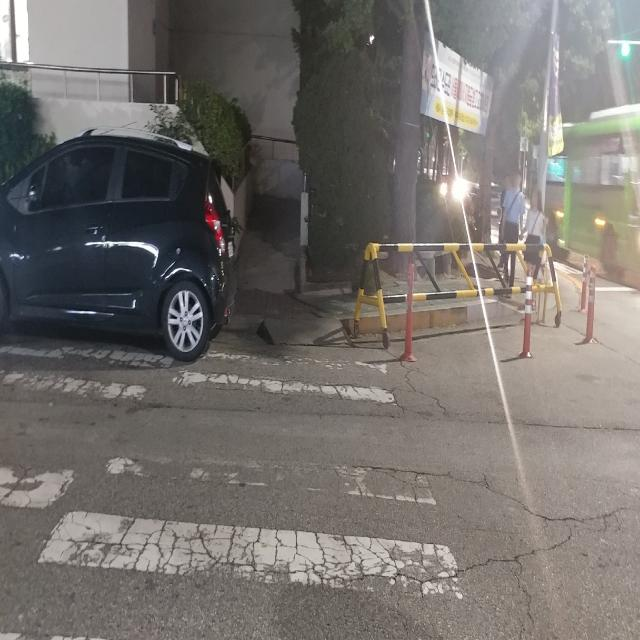횡단보도: (0, 345, 463, 639)
